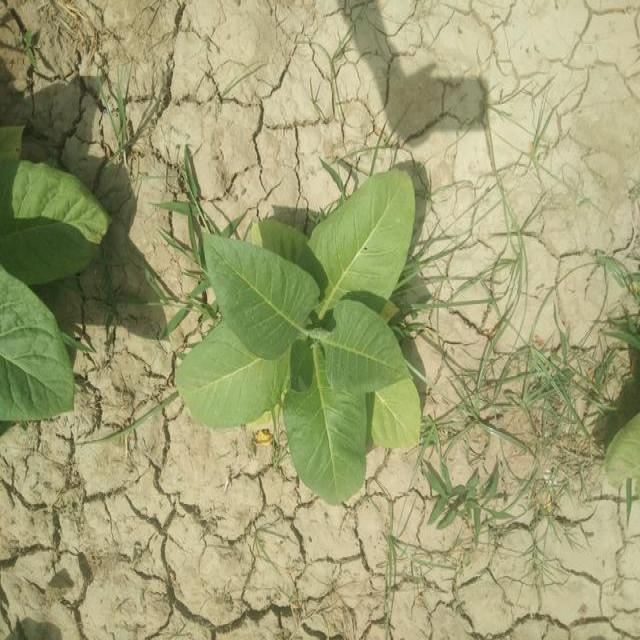crop: (202, 159, 418, 501), (0, 132, 107, 432), (599, 388, 640, 493)
